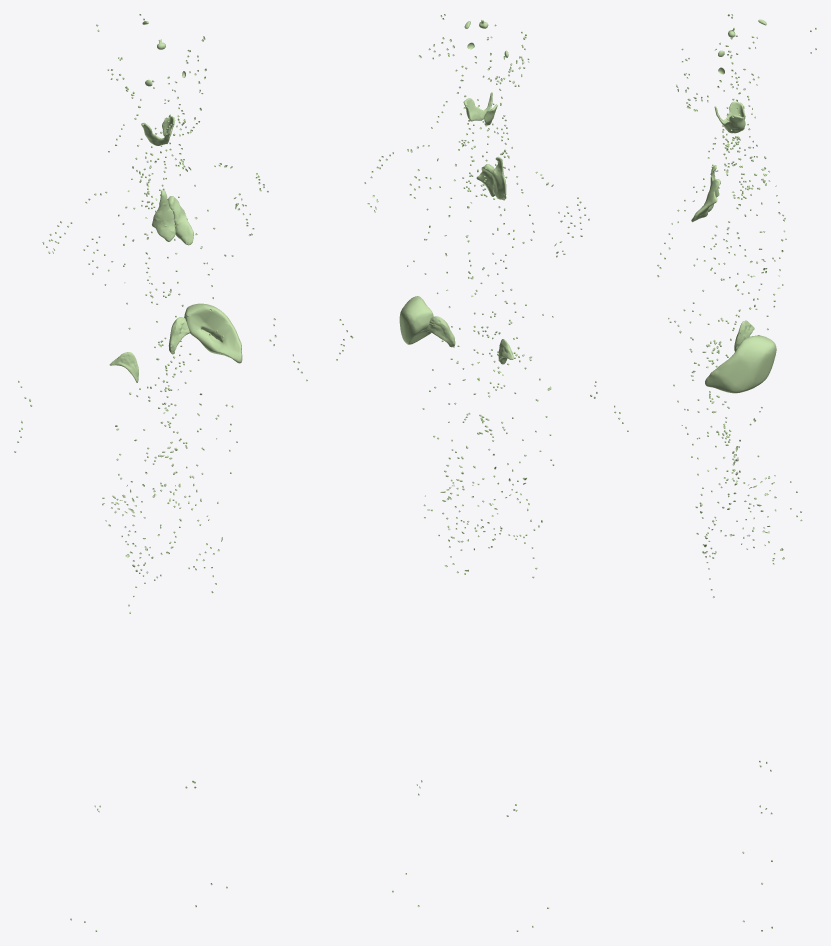
File: endocrino.glb
3 renders of one model, left to right at view 1: azimuth 30°, elevation 25°; view 2: azimuth 150°, elevation 25°; view 3: azimuth 270°, elevation 25°, orthographic.
Visible parts, largest first — view 1: FJ2561, FJ3151, FJ3150; view 2: FJ2561; view 3: FJ2561, ZA0331, FJ3150.
Boxes of the visible parts, left/top/right/bottom form: FJ2561: left=184, top=303, right=242, bottom=363; FJ3151: left=152, top=190, right=175, bottom=241; FJ3150: left=167, top=196, right=193, bottom=245; FJ2561: left=399, top=296, right=433, bottom=344; FJ2561: left=705, top=335, right=776, bottom=393; ZA0331: left=714, top=101, right=745, bottom=133; FJ3150: left=691, top=179, right=720, bottom=222.
Bounding box in the file's own units: 0.4438 × 1.3 × 0.2121.
